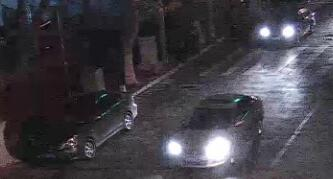car: (21, 88, 138, 164), (165, 93, 262, 171), (255, 6, 316, 45)
